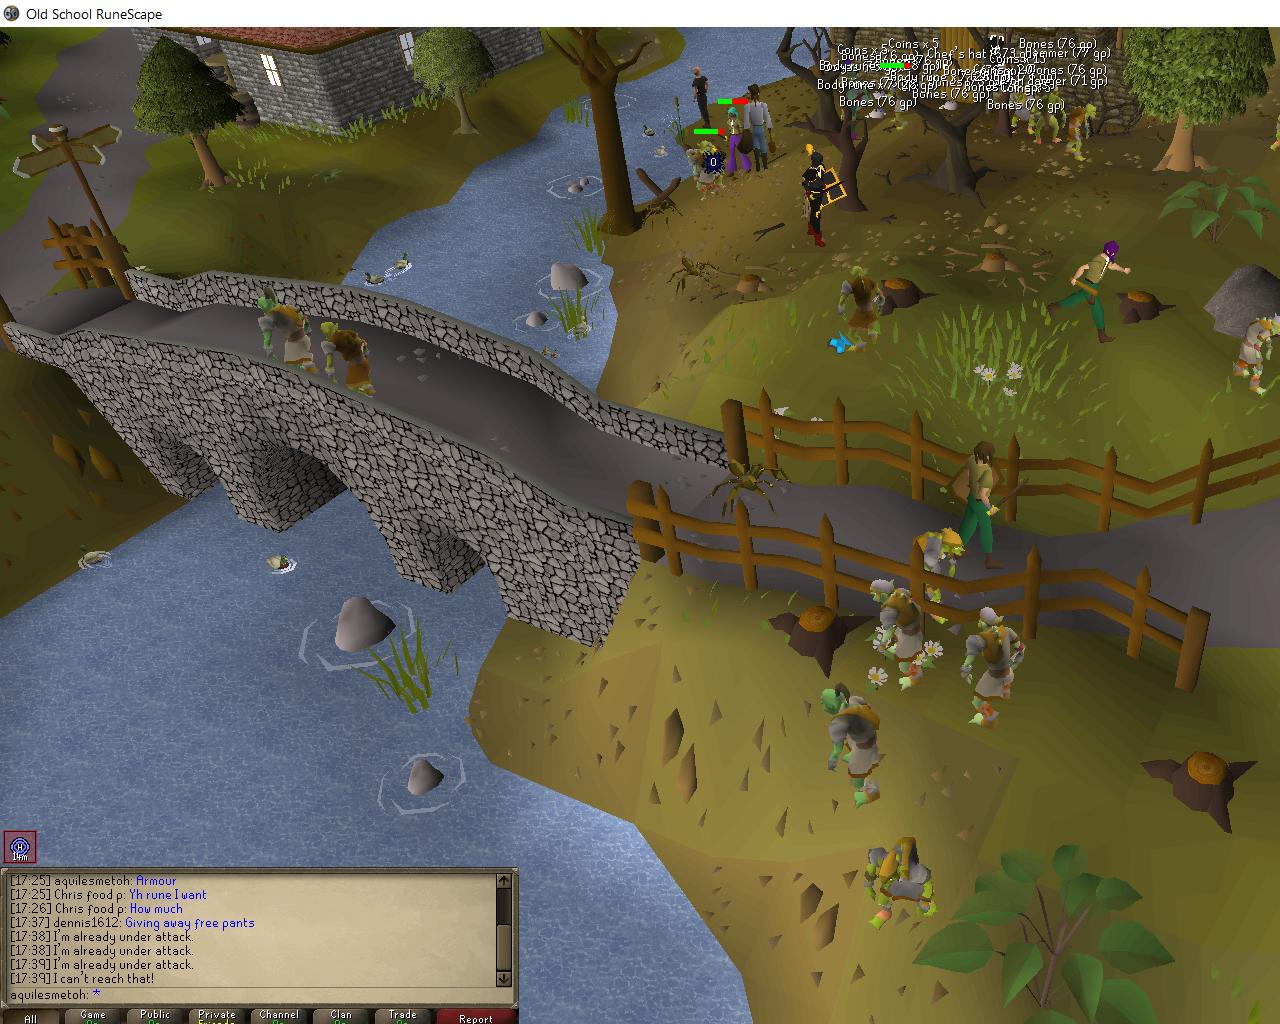Goblin: (810, 683, 885, 805), (862, 573, 935, 691), (957, 604, 1026, 727), (906, 525, 962, 625), (255, 286, 315, 376), (317, 320, 374, 400), (1230, 311, 1279, 398), (838, 263, 883, 349), (1030, 83, 1065, 147), (683, 145, 724, 195), (1066, 101, 1097, 163), (1002, 79, 1034, 137)
